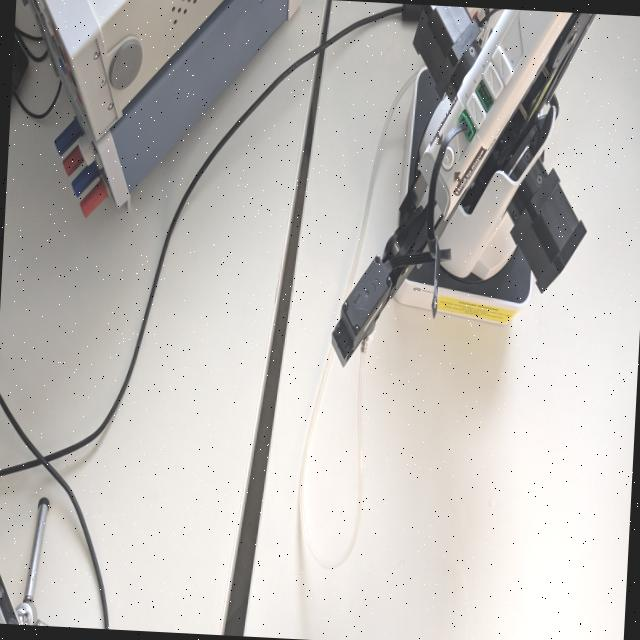Robot-end-effector-HF8z: (322, 242, 399, 375)
